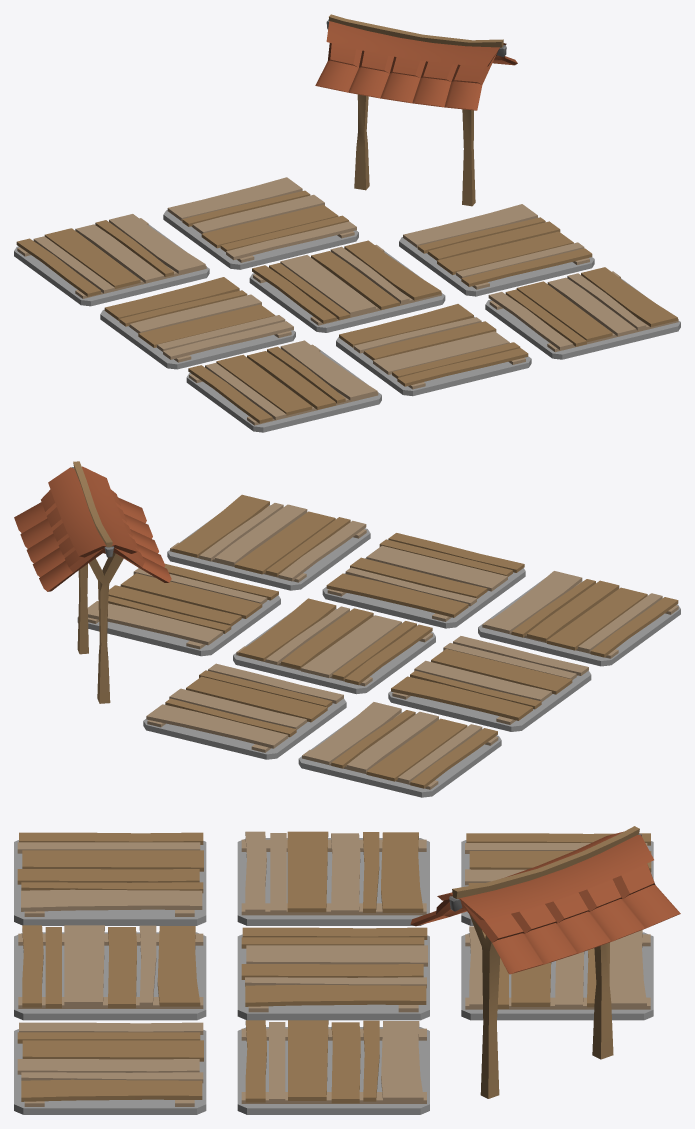
Rendered from StorageYard.fbx.
The picture shows the model from 3 angles, top to bottom: view 1: azimuth 30°, elevation 25°; view 2: azimuth 150°, elevation 25°; view 3: azimuth 270°, elevation 25°; orthographic projection. The views are drawn at different scales.
Visible parts, largest first — view 1: storage yard; view 2: storage yard; view 3: storage yard.
Boxes of the visible parts, x1,y1,x2,y2 form: storage yard: (14, 14, 680, 432); storage yard: (14, 461, 680, 797); storage yard: (14, 826, 680, 1114).
Size of the model in its own units: 498 by 177 by 491.
